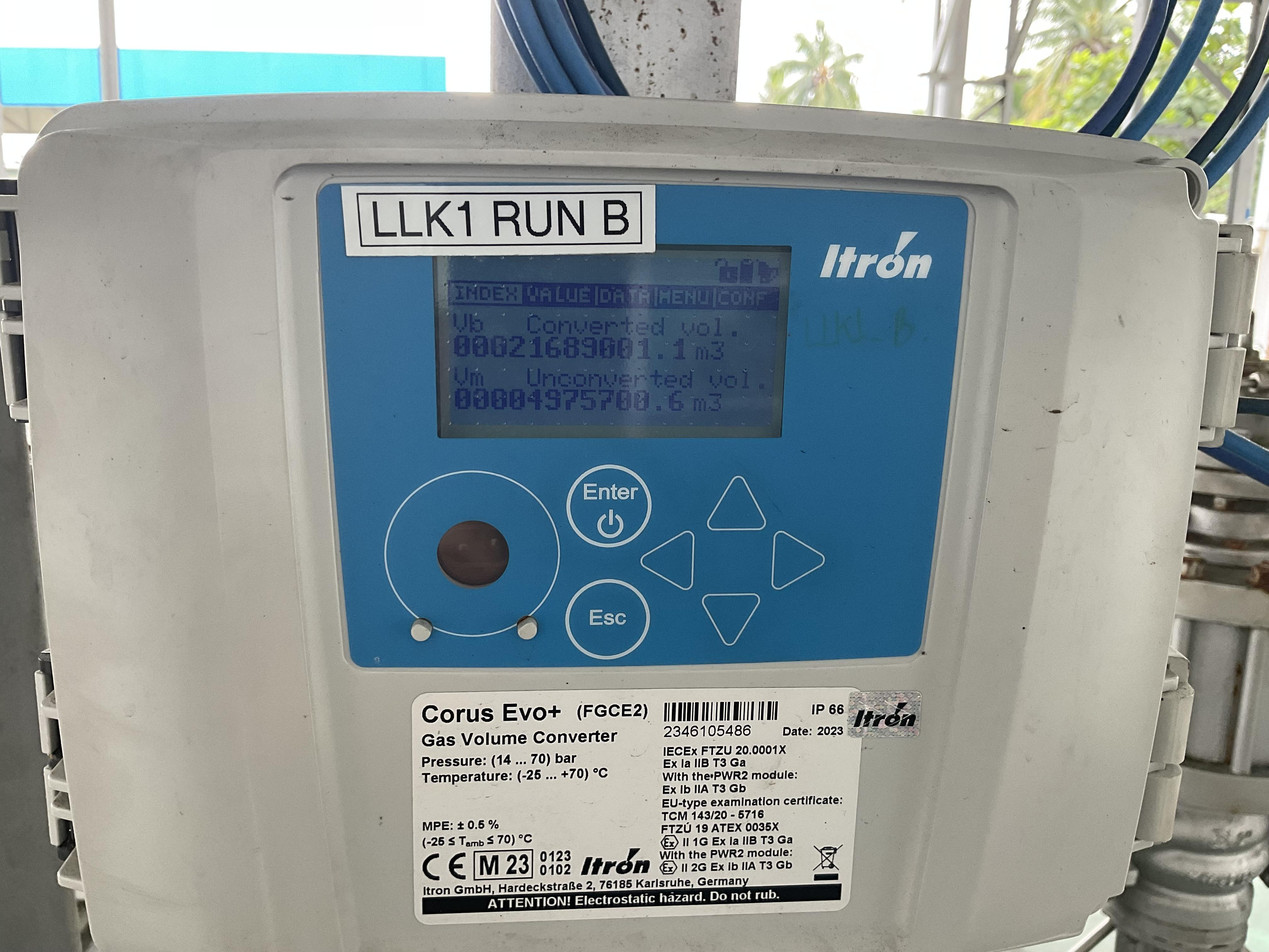digital_screen: (432, 242, 792, 441)
